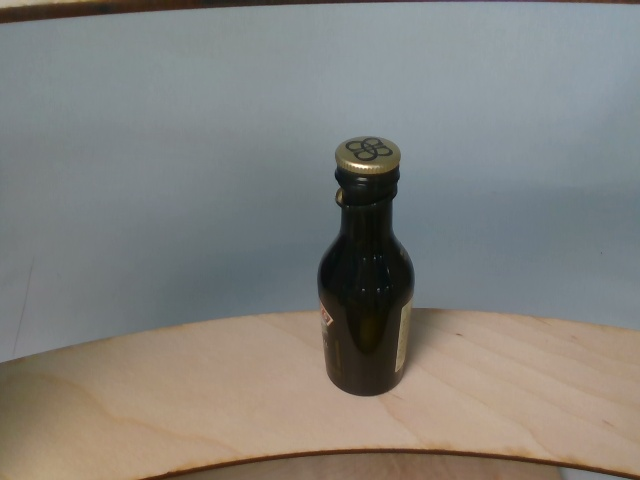coke: (318, 135, 416, 398)
